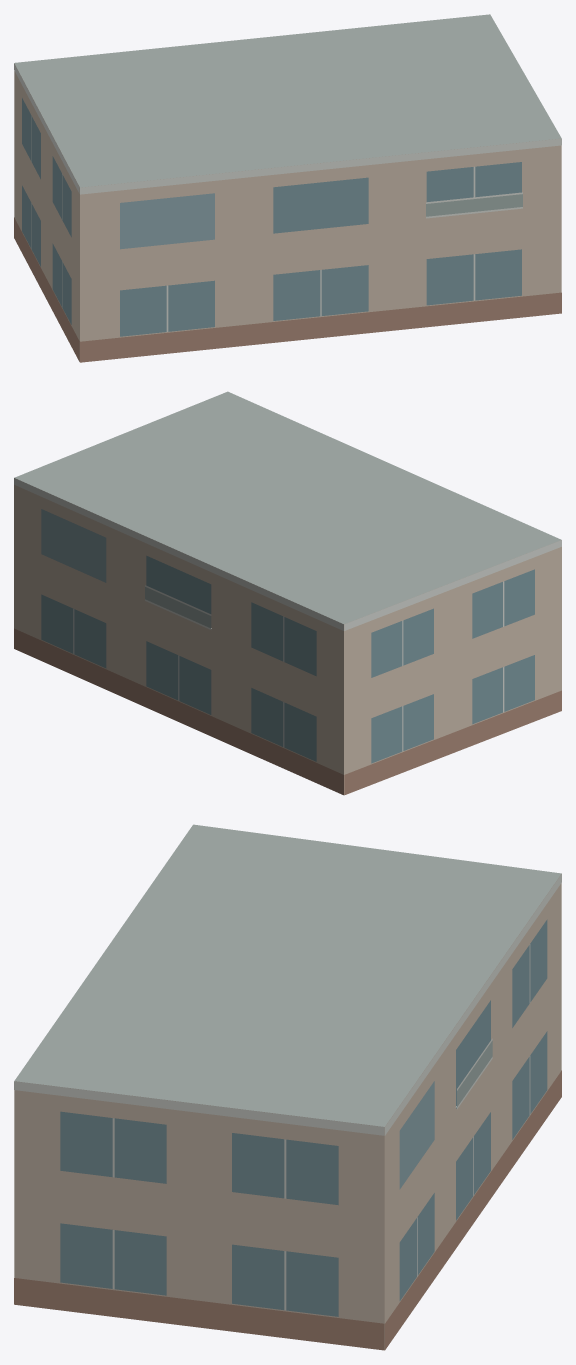
The model's file is survey-upis-32819234.glb.
The picture shows the model from 3 angles, top to bottom: view 1: azimuth 30°, elevation 25°; view 2: azimuth 150°, elevation 25°; view 3: azimuth 270°, elevation 25°; orthographic projection. The views are drawn at different scales.
Visible parts, largest first — view 1: survey-upis-32819234.tmp; view 2: survey-upis-32819234.tmp; view 3: survey-upis-32819234.tmp.
Boxes of the visible parts, x1,y1,x2,y2 form: survey-upis-32819234.tmp: [14, 14, 561, 362]; survey-upis-32819234.tmp: [14, 391, 561, 795]; survey-upis-32819234.tmp: [14, 824, 561, 1350].
Bounding box in the file's own units: 17.72 × 6.1 × 13.56.
